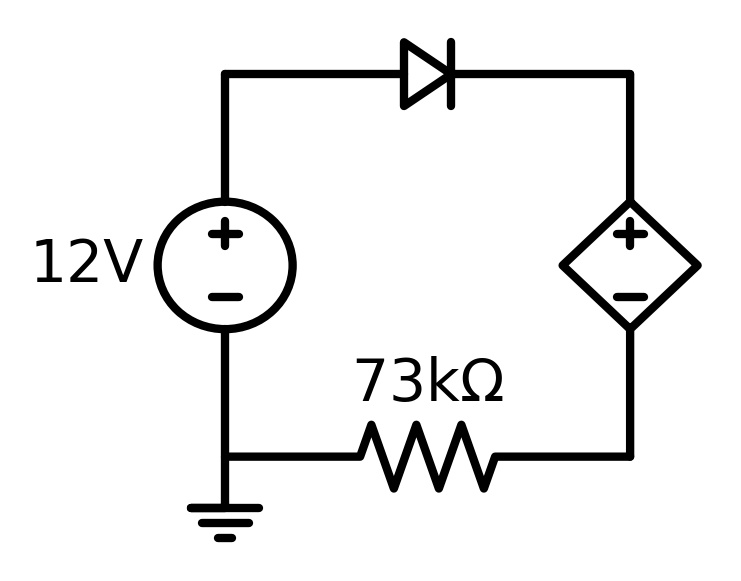diode: (380, 25, 474, 132)
ground: (180, 482, 273, 553)
resistor: (346, 410, 509, 508)
sourcedc: (146, 188, 307, 349)
sourcevc: (552, 192, 709, 352)
